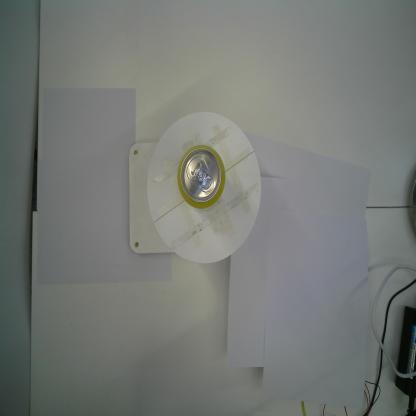Alcohol: (176, 143, 226, 211)
